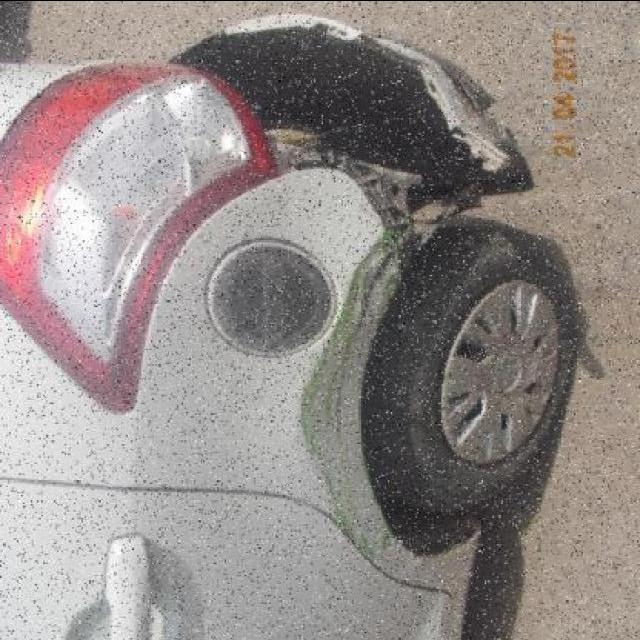quaterpanel-dent: (133, 249, 490, 492)
rear-bumper-dent: (180, 7, 544, 250)
